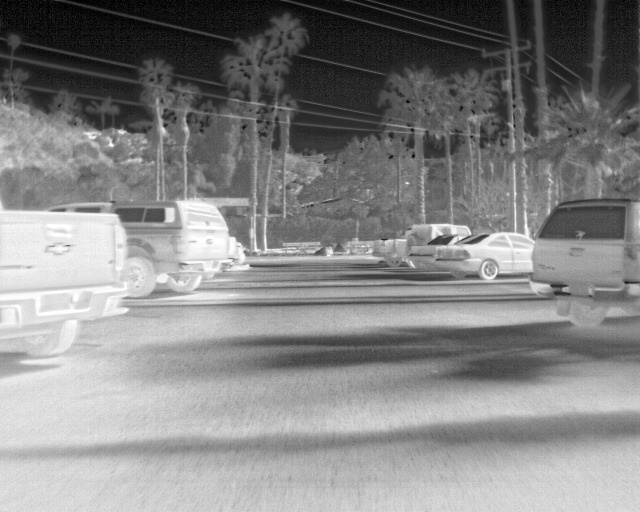vehicle: (1, 203, 129, 370), (35, 198, 230, 297), (534, 200, 640, 323), (437, 231, 537, 280)
